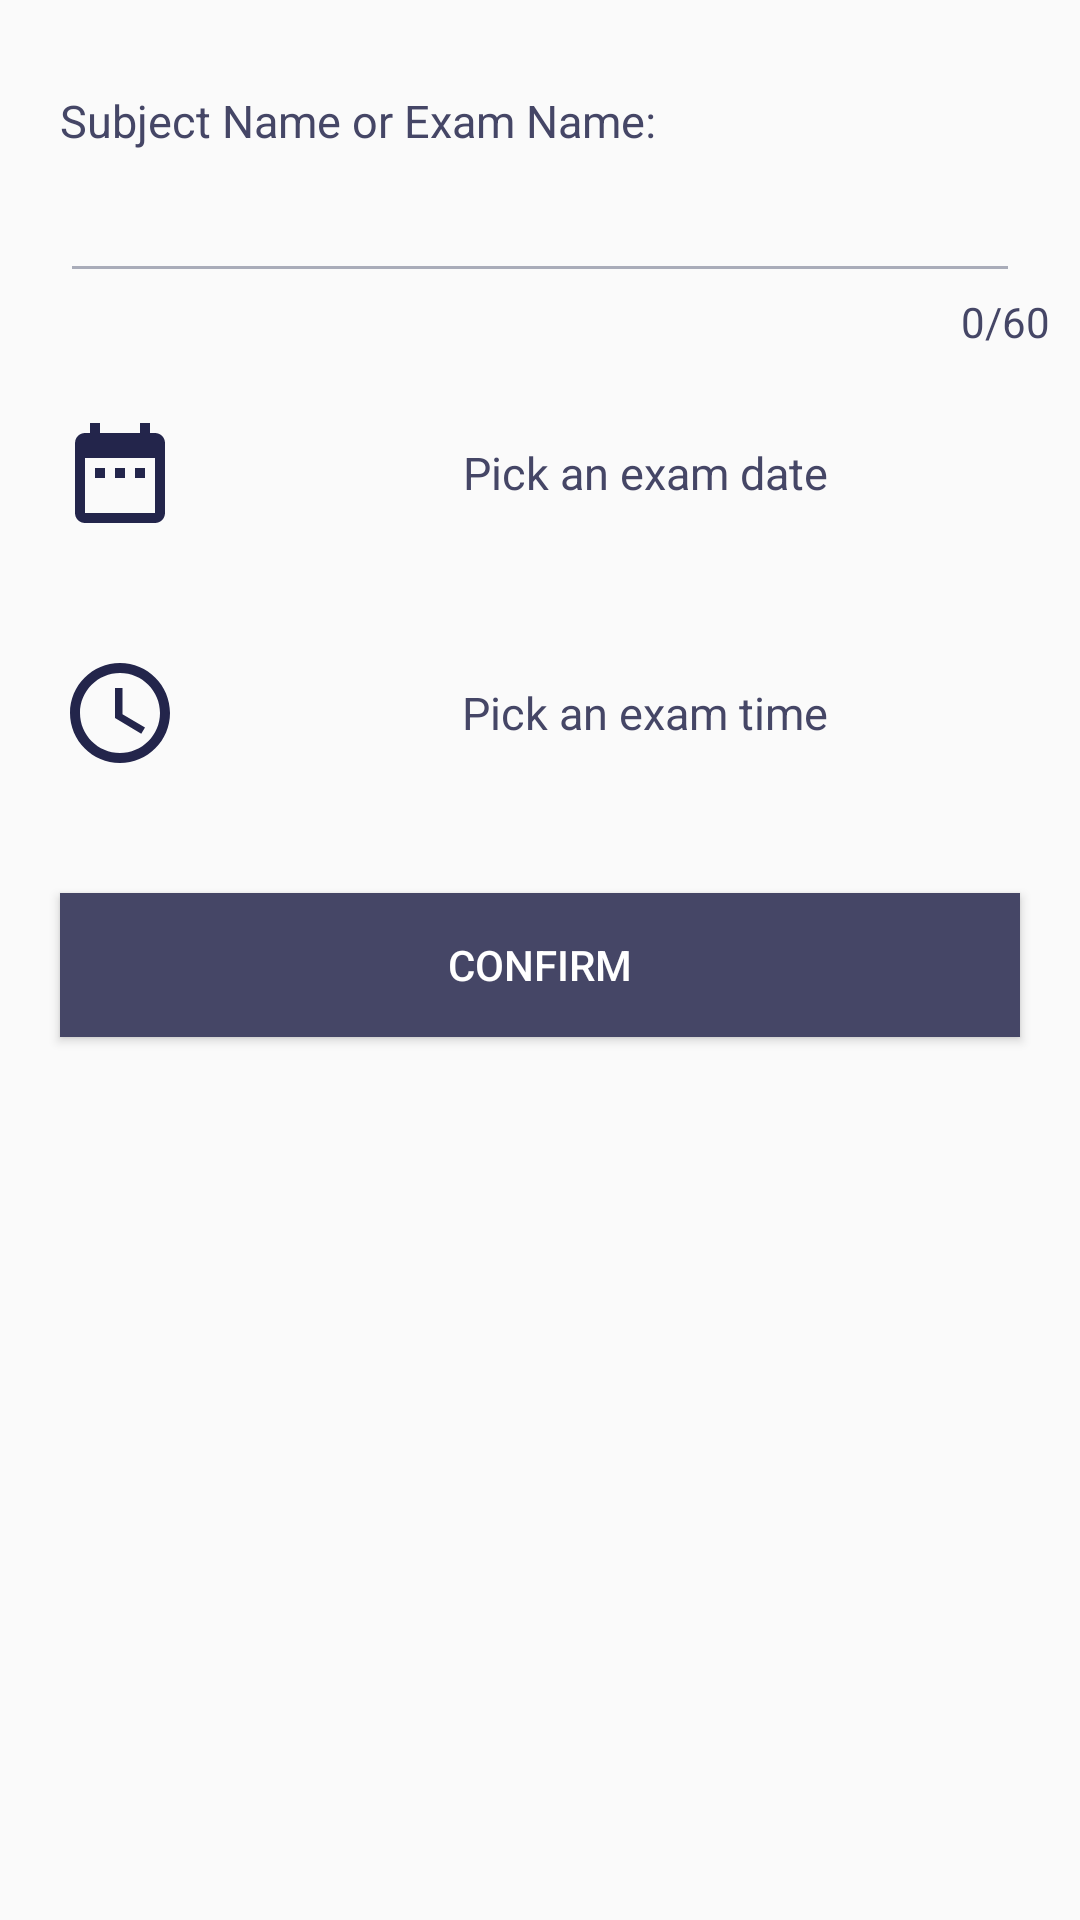

Where icons sit on this 1080x1920 app screen, as (x1, y1, x2, y2):
access time: (70, 663, 170, 763)
date range: (75, 423, 165, 523)
